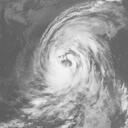cyclone: (36, 5, 103, 96)
